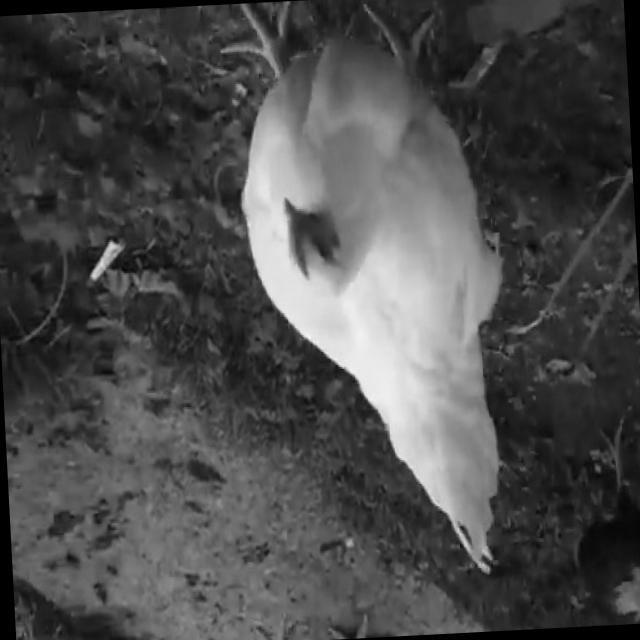running: (229, 0, 546, 602)
